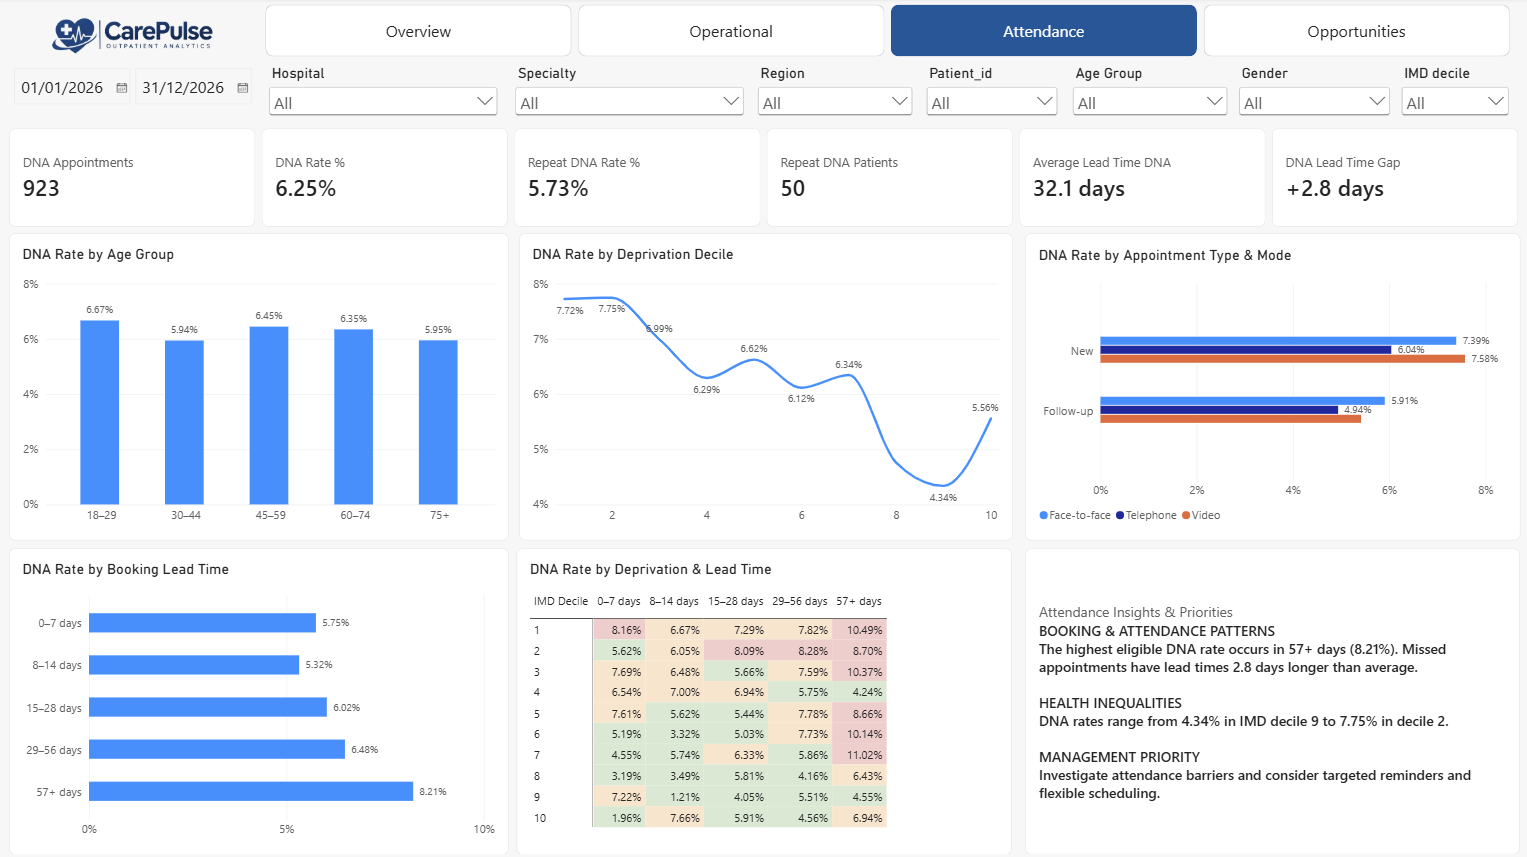

What the dashboard file says about the page in this screenshot:
{"tool":"powerbi","page":{"name":"Attendance","canvas":[1920,1080],"ordinal":2},"visuals":[{"type":"cardVisual","fields":{"Data":["01 Appointment Measures.DNA Appointments","01 Appointment Measures.DNA Rate %","04 Patient Measures.Repeat DNA Rate %","04 Patient Measures.Repeat DNA Patients","04 Patient Measures.Average Lead Time DNA","04 Patient Measures.DNA Lead Time Gap"]},"box":[19.3,164.1,1883.7,123.5],"z":0},{"type":"clusteredColumnChart","title":"DNA Rate by Age Group","fields":{"Category":["dim_patients.Age Group"],"Y":["01 Appointment Measures.DNA Rate %"]},"box":[19.3,295.3,623.4,383],"z":1000},{"type":"clusteredBarChart","title":"DNA Rate by Appointment Type & Mode","fields":{"Category":["fact_appointments.appointment_type"],"Series":["fact_appointments.consultation_mode"],"Y":["01 Appointment Measures.DNA Rate %"]},"box":[1285.4,295.3,617.6,383],"z":2000},{"type":"clusteredBarChart","title":"\tDNA Rate by Booking Lead Time","fields":{"Category":["fact_appointments.Lead Time Band"],"Y":["01 Appointment Measures.DNA Rate %"]},"box":[19.3,687.1,623.4,382.1],"z":3000},{"type":"lineChart","title":"DNA Rate by Deprivation Decile","fields":{"Category":["dim_patients.imd_decile"],"Y":["01 Appointment Measures.DNA Rate %"]},"box":[654.3,295.3,615.7,383],"z":4000},{"type":"pivotTable","title":"DNA Rate by Deprivation & Lead Time","fields":{"Columns":["fact_appointments.Lead Time Band"],"Rows":["dim_patients.imd_decile"],"Values":["01 Appointment Measures.DNA Rate %"]},"box":[652.4,687.1,617.6,382.1],"z":5000},{"type":"pageNavigator","box":[338.3,9.4,1555.8,65.5],"z":6000},{"type":"slicer","fields":{"Values":["calendar.Date"]},"box":[17.1,84.4,321.1,65.9],"z":7000},{"type":"slicer","fields":{"Values":["dim_hospitals.hospital_name"]},"box":[337.9,84.4,294.8,73.3],"z":8000},{"type":"slicer","fields":{"Values":["dim_specialties.specialty_name"]},"box":[645,84.4,294.8,73.3],"z":9000},{"type":"slicer","fields":{"Values":["dim_hospitals.region"]},"box":[947.5,84.4,202.7,73.3],"z":10000},{"type":"slicer","fields":{"Values":["dim_patients.Age Group"]},"box":[1340.3,84.4,202.7,73.3],"z":11000},{"type":"slicer","fields":{"Values":["dim_patients.gender"]},"box":[1547.6,84.4,198,71.7],"z":12000},{"type":"slicer","fields":{"Values":["dim_patients.imd_decile"]},"box":[1750.3,84.4,143.4,73.3],"z":13000},{"type":"slicer","fields":{"Values":["dim_patients.patient_id"]},"box":[1157.9,84.4,173,73.3],"z":14000},{"type":"cardVisual","fields":{"Data":["06_Dynamic_Insights.Attendance Executive Insight"]},"box":[1285.4,687.1,617.6,382.1],"z":15000},{"type":"image","box":[21.8,9.4,299.3,74.8],"z":15001}]}

Visuals, with their boxes in screenshot pixels (x1, y1, x2, y2), scaled from the page's 1920x1080 canvas onto the 1527x857 screenshot:
cardVisual - 01 Appointment Measures.DNA Appointments x 01 Appointment Measures.DNA Rate %: pyautogui.locateOnScreen(15, 130, 1513, 228)
"DNA Rate by Age Group" clusteredColumnChart: pyautogui.locateOnScreen(15, 234, 511, 538)
"DNA Rate by Appointment Type & Mode" clusteredBarChart: pyautogui.locateOnScreen(1022, 234, 1513, 538)
"	DNA Rate by Booking Lead Time" clusteredBarChart: pyautogui.locateOnScreen(15, 545, 511, 848)
"DNA Rate by Deprivation Decile" lineChart: pyautogui.locateOnScreen(520, 234, 1010, 538)
"DNA Rate by Deprivation & Lead Time" pivotTable: pyautogui.locateOnScreen(519, 545, 1010, 848)
pageNavigator: pyautogui.locateOnScreen(269, 7, 1506, 59)
slicer - calendar.Date: pyautogui.locateOnScreen(14, 67, 269, 119)
slicer - dim_hospitals.hospital_name: pyautogui.locateOnScreen(269, 67, 503, 125)
slicer - dim_specialties.specialty_name: pyautogui.locateOnScreen(513, 67, 747, 125)
slicer - dim_hospitals.region: pyautogui.locateOnScreen(754, 67, 915, 125)
slicer - dim_patients.Age Group: pyautogui.locateOnScreen(1066, 67, 1227, 125)
slicer - dim_patients.gender: pyautogui.locateOnScreen(1231, 67, 1388, 124)
slicer - dim_patients.imd_decile: pyautogui.locateOnScreen(1392, 67, 1506, 125)
slicer - dim_patients.patient_id: pyautogui.locateOnScreen(921, 67, 1058, 125)
cardVisual - 06_Dynamic_Insights.Attendance Executive Insight: pyautogui.locateOnScreen(1022, 545, 1513, 848)
image: pyautogui.locateOnScreen(17, 7, 255, 67)
